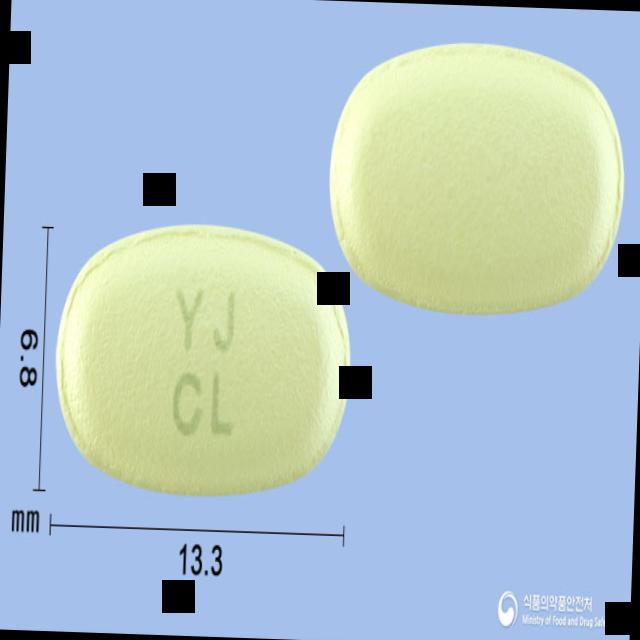Clacid -500mg: (49, 215, 362, 507)
